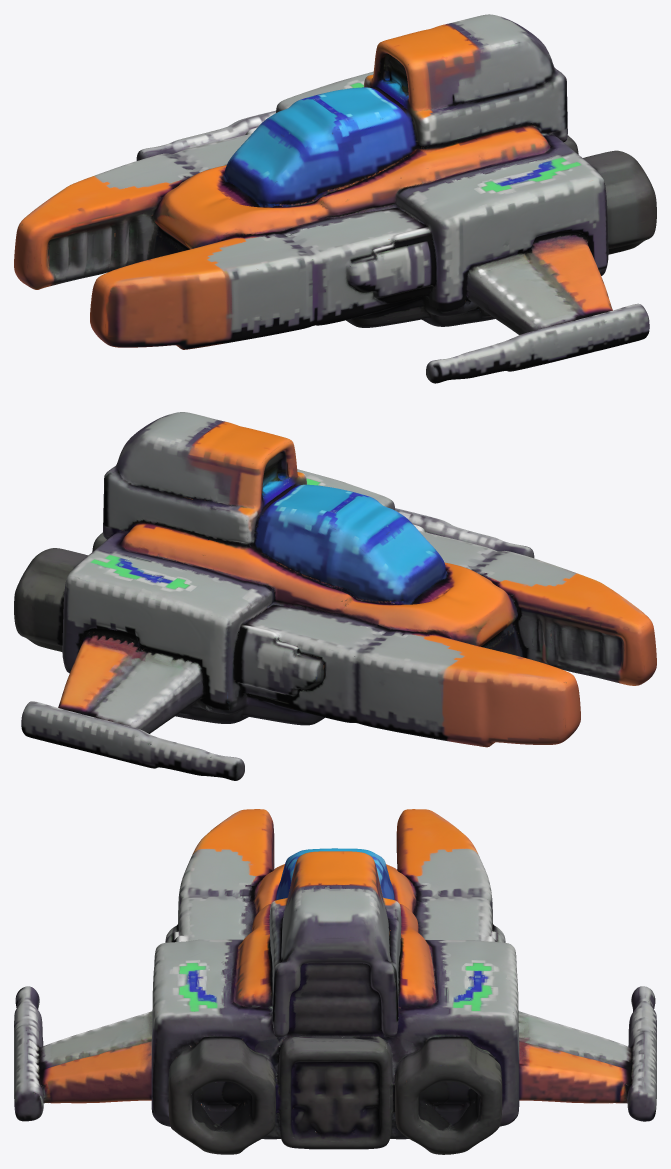
Rendered from reaver_mk2.glb.
3 views of the same model, one above another, from view 1: azimuth 30°, elevation 25°; view 2: azimuth 150°, elevation 25°; view 3: azimuth 270°, elevation 25° (orthographic). The views are drawn at different scales.
Parts seen in each view (by area): view 1: Mesh_0.001; view 2: Mesh_0.001; view 3: Mesh_0.001.
Boxes of the visible parts, x1=… form: Mesh_0.001: x1=14, y1=14, x2=656, y2=383; Mesh_0.001: x1=14, y1=412, x2=656, y2=780; Mesh_0.001: x1=14, y1=809, x2=656, y2=1154.
Bounding box in the file's own units: 1.91 × 0.7665 × 1.9.
1 material, 1 textured.
